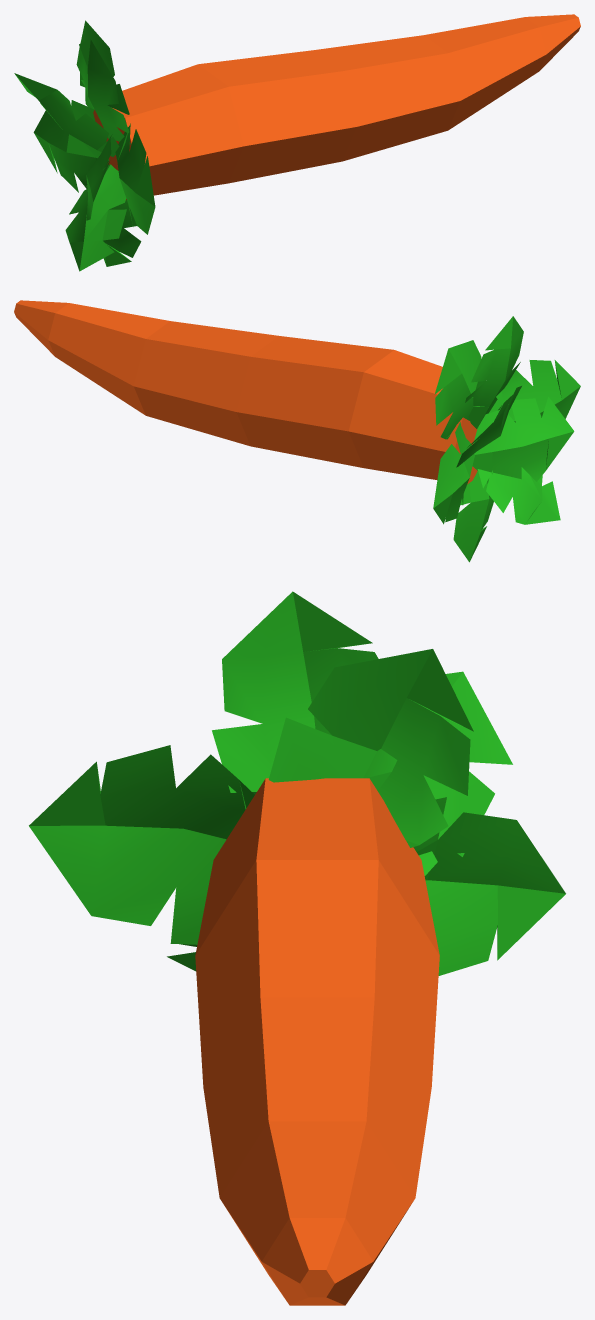
The model's file is Carrot full.fbx.
3 renders of one model, top to bottom at view 1: azimuth 30°, elevation 25°; view 2: azimuth 150°, elevation 25°; view 3: azimuth 270°, elevation 25°, orthographic. The views are drawn at different scales.
Parts seen in each view (by area): view 1: Carrot, Carrot.001, Carrot.002; view 2: Carrot, Carrot.001, Carrot.002; view 3: Carrot, Carrot.001, Carrot.002.
Part boxes in pixels (x1,y1,x2,y2): Carrot: [14, 14, 580, 271]; Carrot.001: [301, 128, 356, 169]; Carrot.002: [314, 44, 362, 69]; Carrot: [14, 300, 580, 562]; Carrot.001: [253, 336, 319, 360]; Carrot.002: [201, 336, 277, 356]; Carrot: [29, 591, 565, 1305]; Carrot.001: [200, 946, 374, 1086]; Carrot.002: [268, 997, 401, 1105].
Size of the model in its own units: 409 by 182 by 182.
